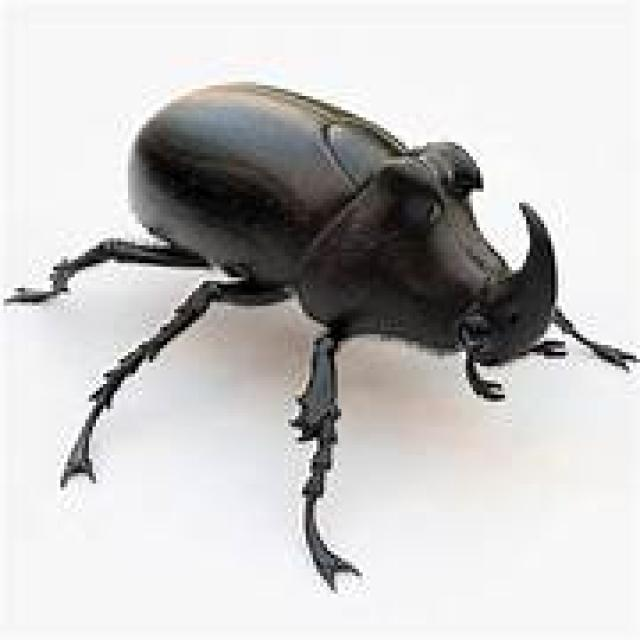Rhino-beetle: (42, 36, 602, 440)
